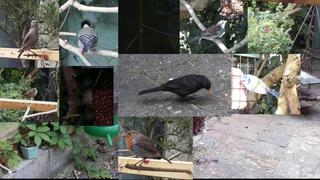blackbird: (138, 74, 212, 103)
blue tit: (239, 74, 280, 98)
dunnock: (20, 88, 37, 100)
great tit: (77, 20, 98, 55)
mouse: (82, 86, 94, 109)
robin: (120, 130, 173, 173)
sparrow: (188, 20, 228, 43)
starling: (18, 20, 39, 59)
